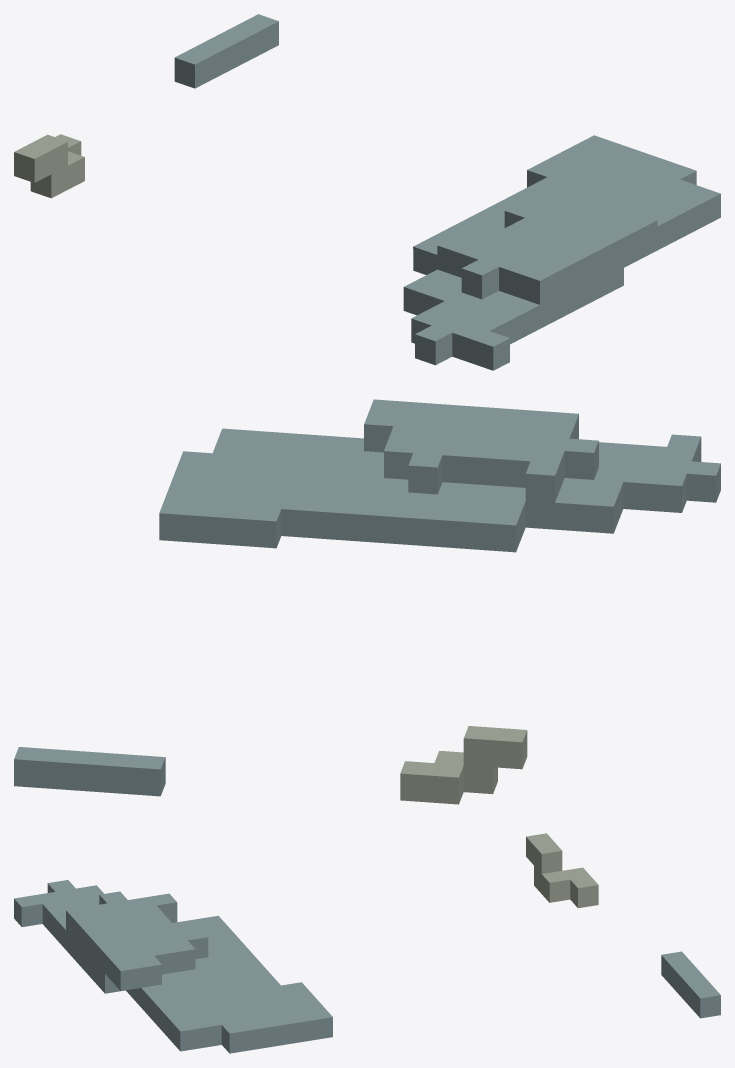
3 views of the same model, one above another, from view 1: azimuth 30°, elevation 25°; view 2: azimuth 150°, elevation 25°; view 3: azimuth 270°, elevation 25° (orthographic). The views are drawn at different scales.
Visible parts, largest first — view 1: measured-industrial; view 2: measured-industrial; view 3: measured-industrial.
Part boxes in pixels (x1,y1,x2,y2): measured-industrial: (14, 14, 720, 370); measured-industrial: (14, 399, 720, 804); measured-industrial: (14, 833, 720, 1053).
Size of the model in its own units: 32.18 by 4.51 by 47.96.
